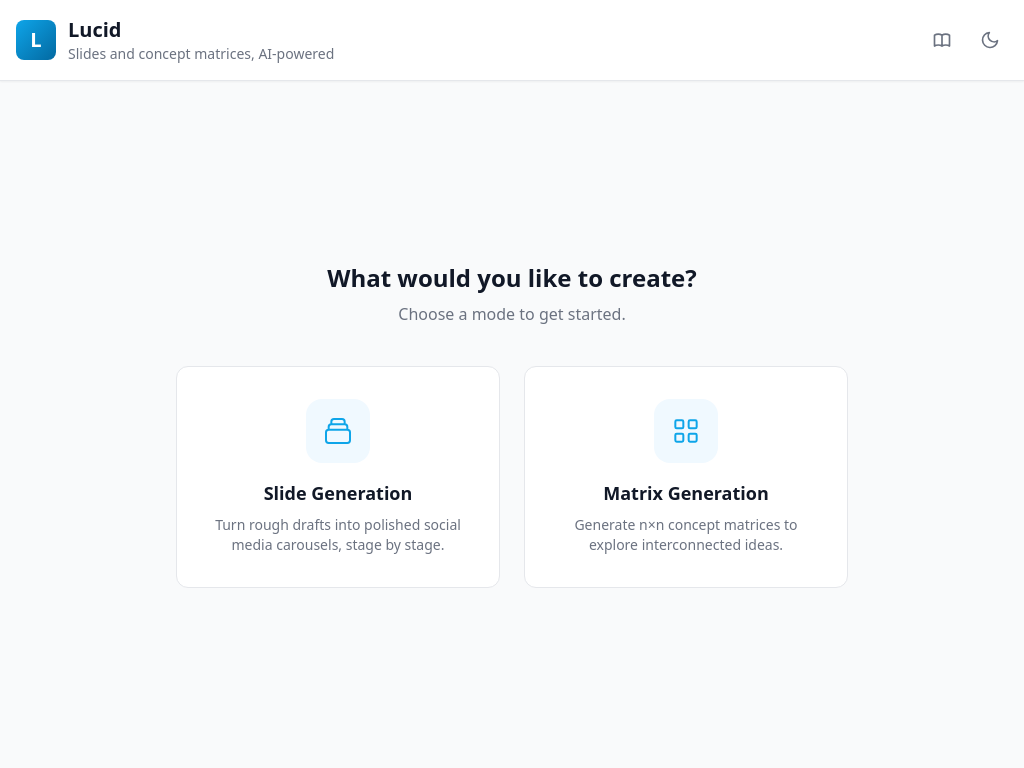
Test: App routing › shows ProjectHome when Slide Generation is selected and no project is open
Click the heading "Slide Generation".
click(338, 492)  # box [264,480,412,504]
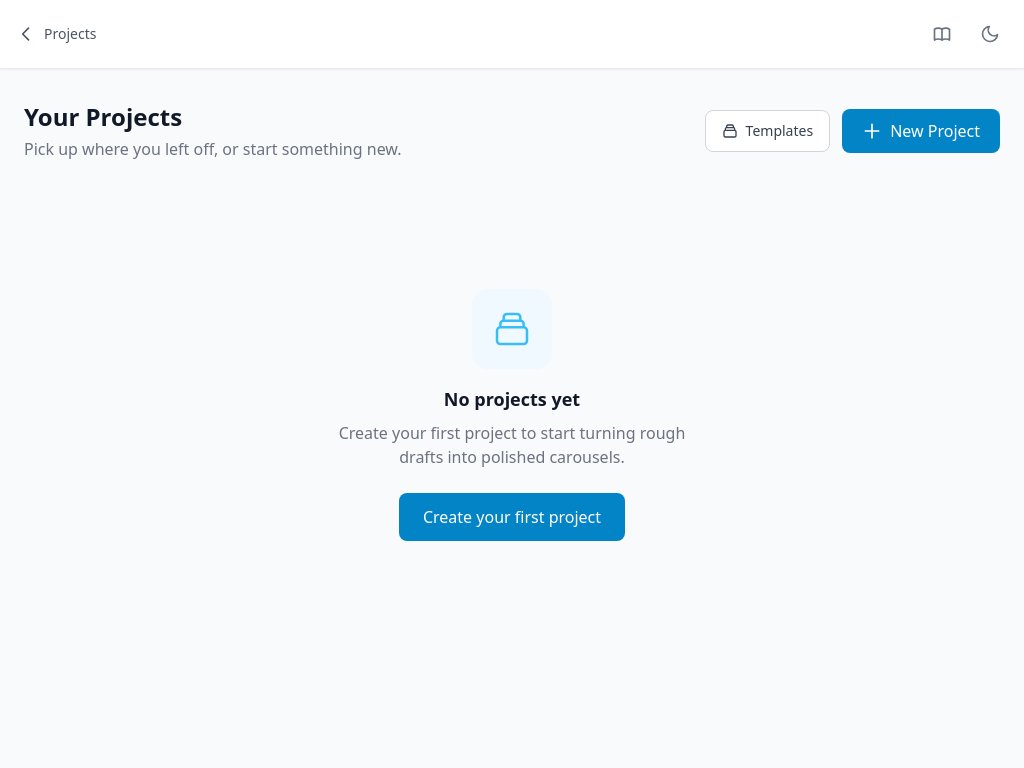
expect the heading "Your Projects" is shown: met, box [24,100,182,133]
